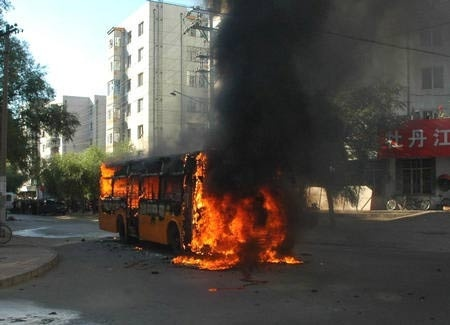fire: (176, 156, 301, 270), (97, 165, 156, 205)
